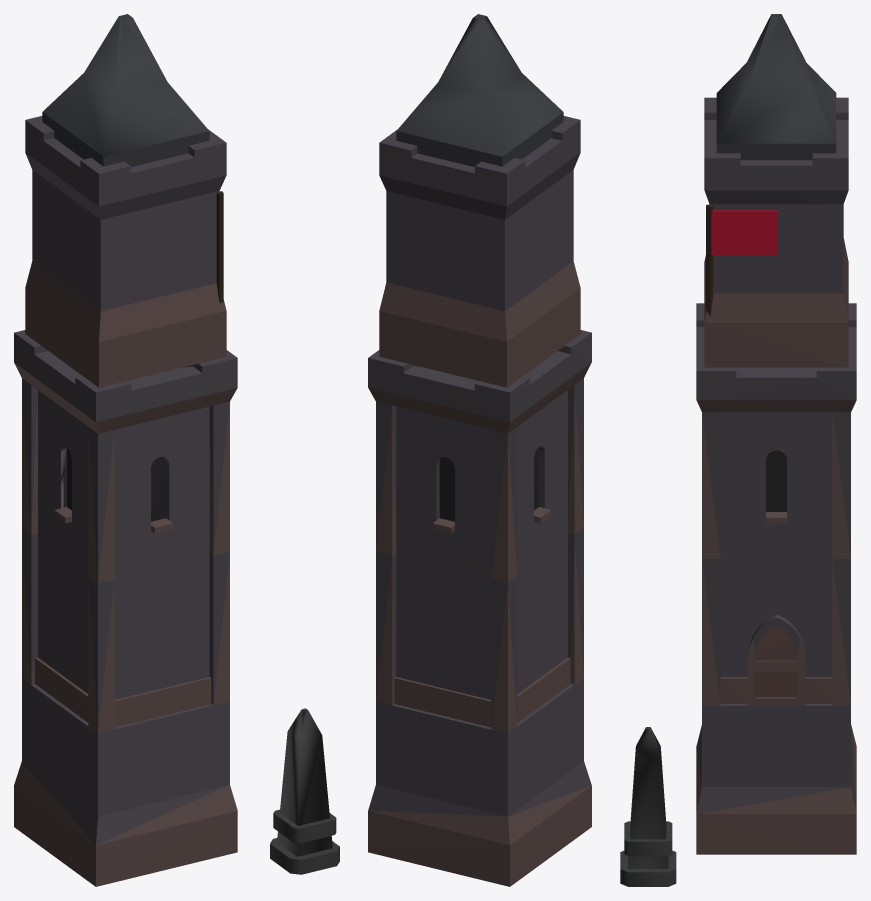
Rendered from ntower_l2.glb.
3 renders of one model, left to right at view 1: azimuth 30°, elevation 25°; view 2: azimuth 150°, elevation 25°; view 3: azimuth 270°, elevation 25°, orthographic. The views are drawn at different scales.
Parts seen in each view (by area): view 1: ntower_l2; view 2: ntower_l2; view 3: ntower_l2.
Boxes of the visible parts, x1,y1,x2,y2 form: ntower_l2: (14,14,339,886); ntower_l2: (368,14,591,886); ntower_l2: (620,14,856,886).
Size of the model in its own units: 2.36 by 8.87 by 2.36.
